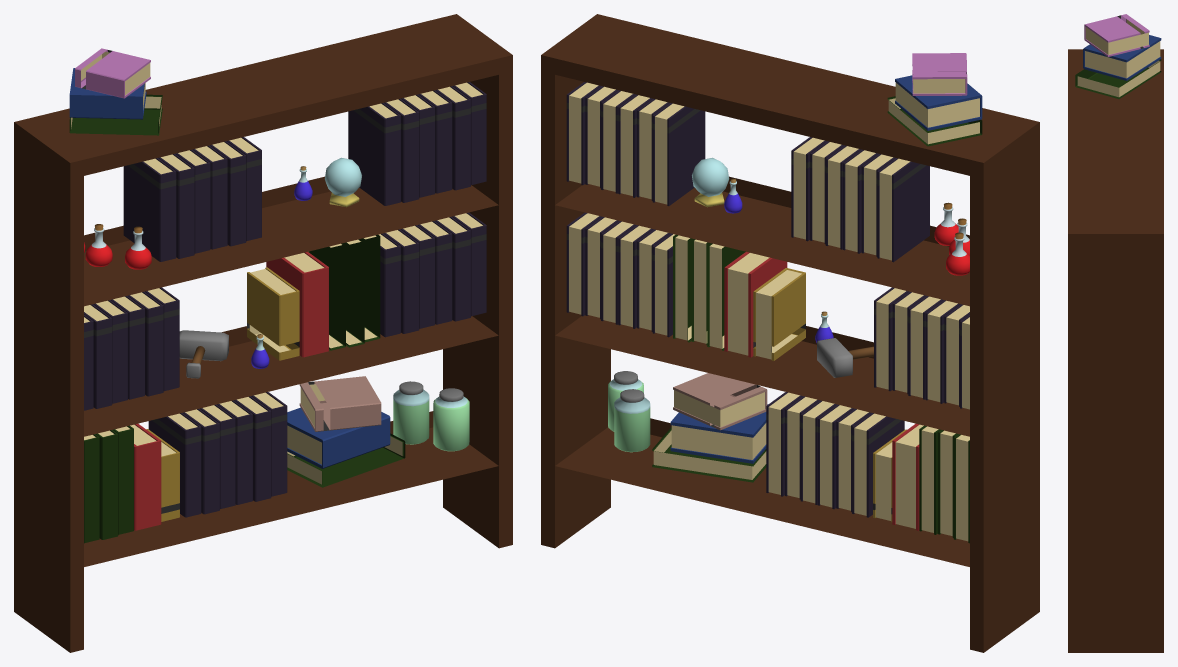
Rendered from bookcase.fbx.
The picture shows the model from 3 angles, left to right: view 1: azimuth 30°, elevation 25°; view 2: azimuth 150°, elevation 25°; view 3: azimuth 270°, elevation 25°; orthographic projection. The views are drawn at different scales.
Parts seen in each view (by area): view 1: Bookcase; view 2: Bookcase; view 3: Bookcase.
Boxes of the visible parts, x1,y1,x2,y2 form: Bookcase: (14,14,512,652); Bookcase: (541,14,1039,652); Bookcase: (1068,14,1163,652).
Bounding box in the file's own units: 129 × 28.41 × 154.
